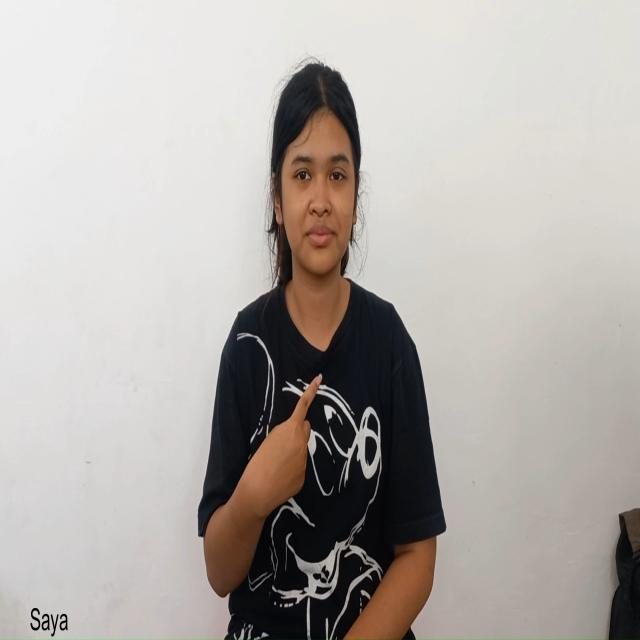Saya -BISINDO-: (201, 364, 327, 598)
